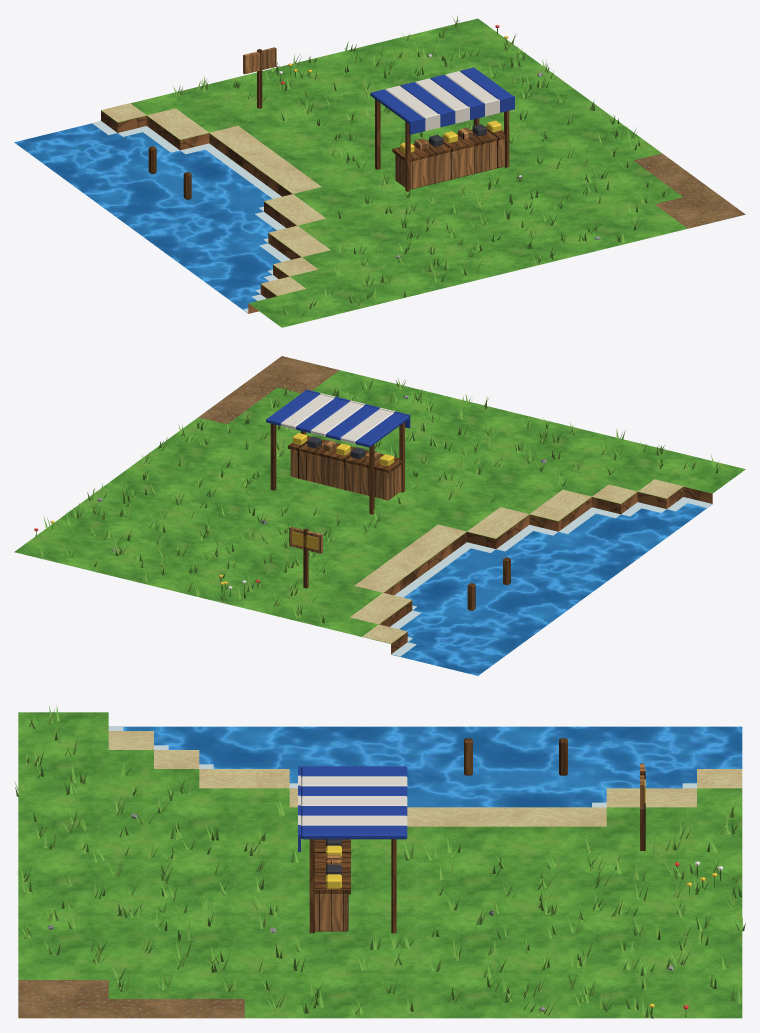
File: chunk_5_15.glb
The picture shows the model from 3 angles, top to bottom: view 1: azimuth 30°, elevation 25°; view 2: azimuth 150°, elevation 25°; view 3: azimuth 270°, elevation 25°; orthographic projection. The views are drawn at different scales.
Parts seen in each view (by area): view 1: chunk_5_15; view 2: chunk_5_15; view 3: chunk_5_15.
Boxes of the visible parts, left/top/right/bottom form: chunk_5_15: left=14, top=16, right=745, bottom=327; chunk_5_15: left=14, top=356, right=745, bottom=675; chunk_5_15: left=14, top=705, right=745, bottom=1018.
Bounding box in the file's own units: 16.18 × 2.77 × 16.17.
Materials: 21 (12 with a texture image).
